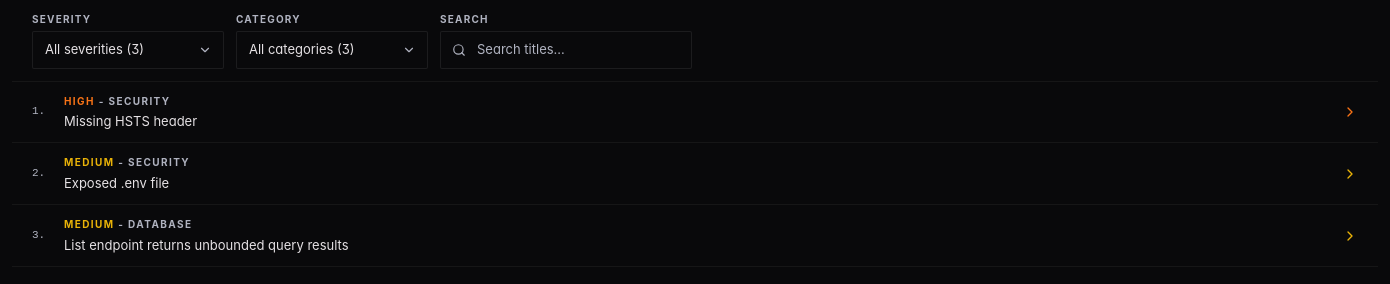
Test: IssueList › shows code-domain dropdown filters and narrows the queue to the selected domain
Select "Database (1)" in the dropdown named "issue category". click: (332, 50)
box: 236,31 -> 428,68
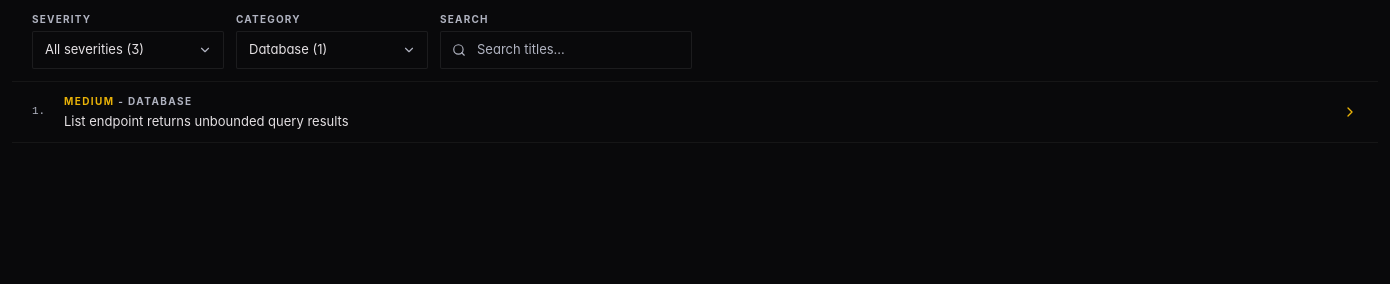
Check: the text "List endpoint returns unbounded query results" is shown, box 64,113 -> 348,129
Check: the button "Exposed .env file" is gone
Check: the button "Missing HSTS header" is gone
